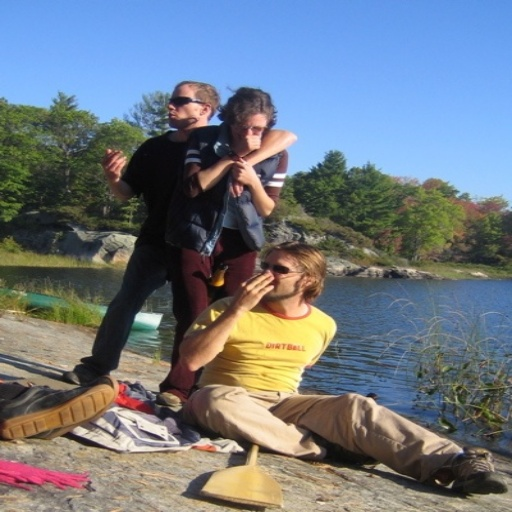hand: (231, 266, 277, 314), (99, 145, 129, 185), (227, 130, 261, 160), (231, 153, 256, 184), (226, 174, 248, 198)
